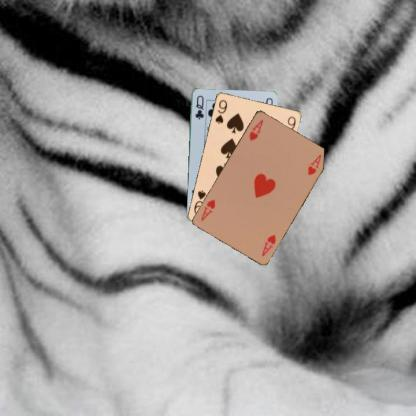9s: (212, 96, 228, 126)
Ah: (246, 116, 264, 142), (259, 232, 277, 258)
Qc: (193, 92, 205, 121)
